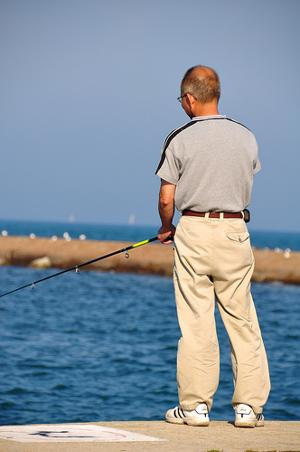person: (158, 64, 271, 429)
